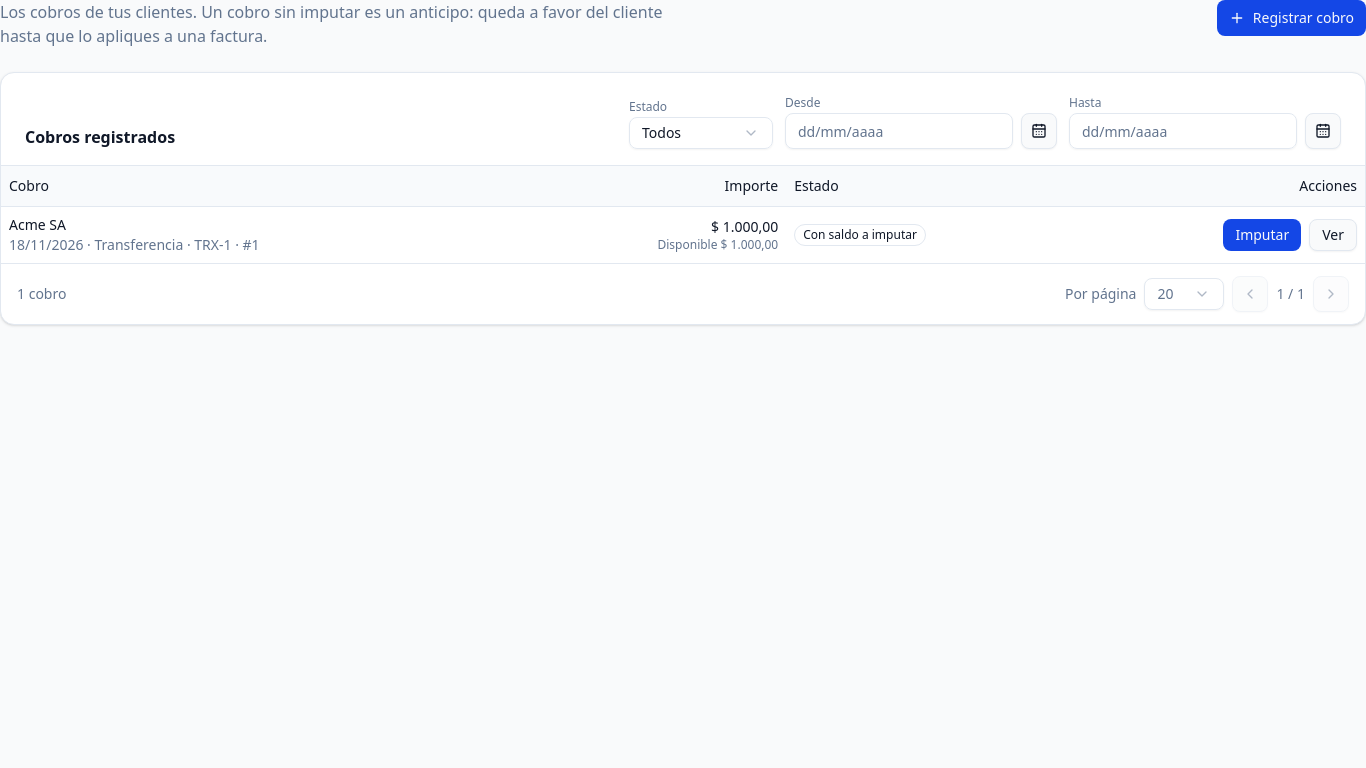
Test: Cobros: listado › sin permiso para ver clientes no los pide: el listado funciona igual, sin filtro por cliente
Expected: the table is shown, [1,166,1365,262]
Expected: the dropdown labelled "Estado" is shown, [629,117,773,149]
Note: Y al querer registrar un cobro se explica por qué no se puede elegir cliente
Click the button "Registrar cobro". click: (1291, 18)
box: [1217,0,1365,36]
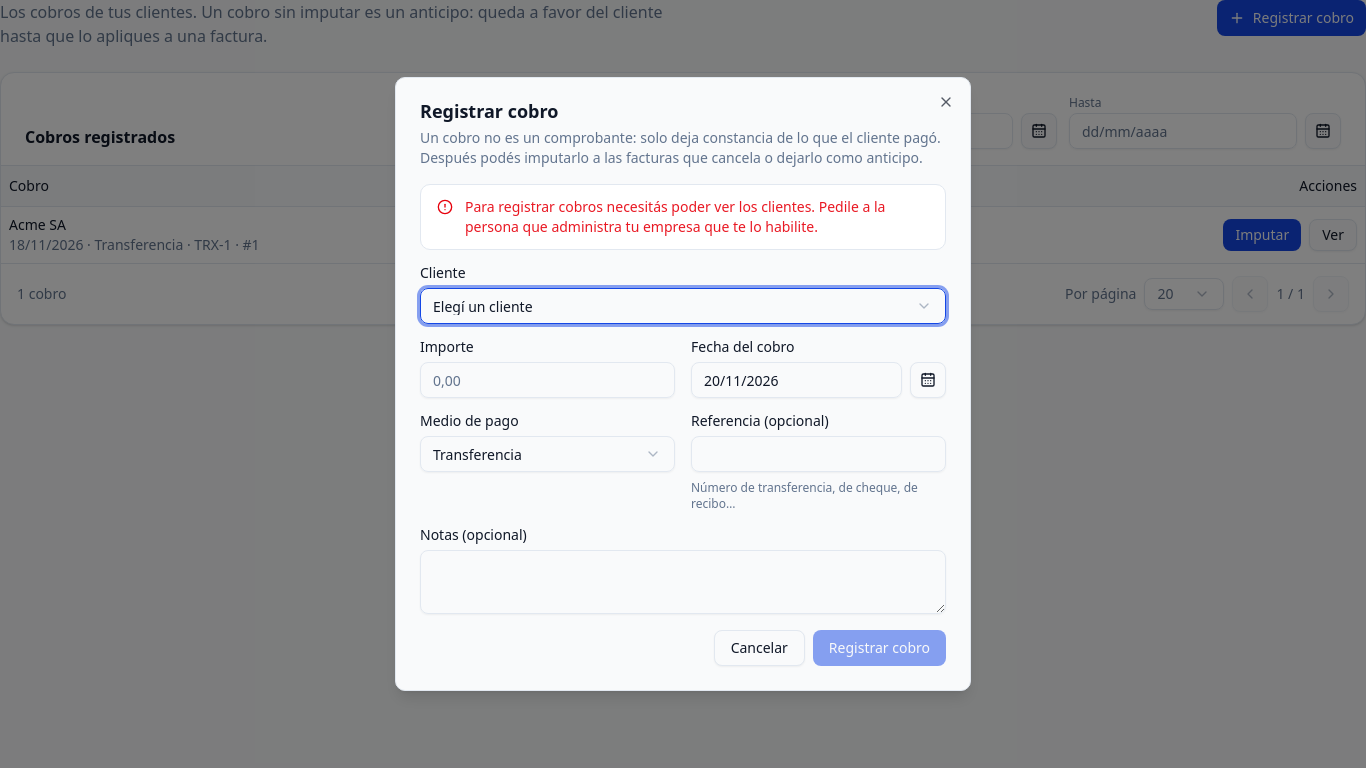
Expected: the text "necesitás poder ver los clientes" is shown, [465,197,885,236]
Expected: the button "Registrar cobro" is disabled, [813,630,946,666]
